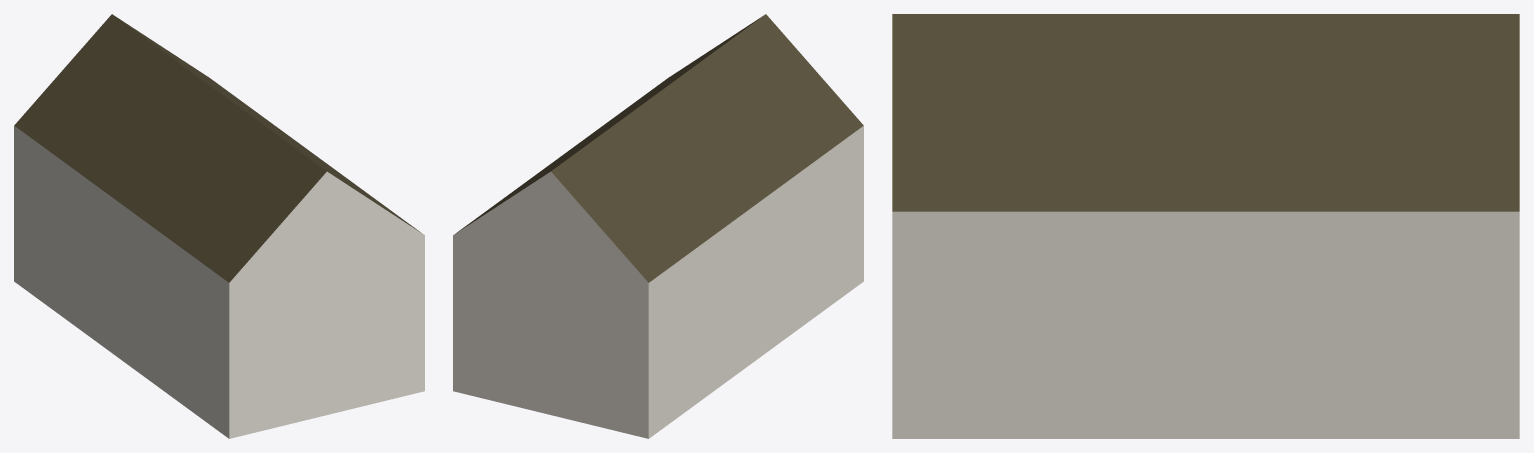
3 views of the same model, side by side, from view 1: azimuth 30°, elevation 25°; view 2: azimuth 150°, elevation 25°; view 3: azimuth 270°, elevation 25° (orthographic). The views are drawn at different scales.
Parts seen in each view (by area): view 1: obj2; view 2: obj2; view 3: obj2.
Part boxes in pixels (left/top/right/bottom): obj2: left=14, top=14, right=424, bottom=438; obj2: left=453, top=14, right=863, bottom=438; obj2: left=892, top=14, right=1519, bottom=438.
Size of the model in its own units: 10.5 by 12.5 by 20.
1 material, 1 textured.
